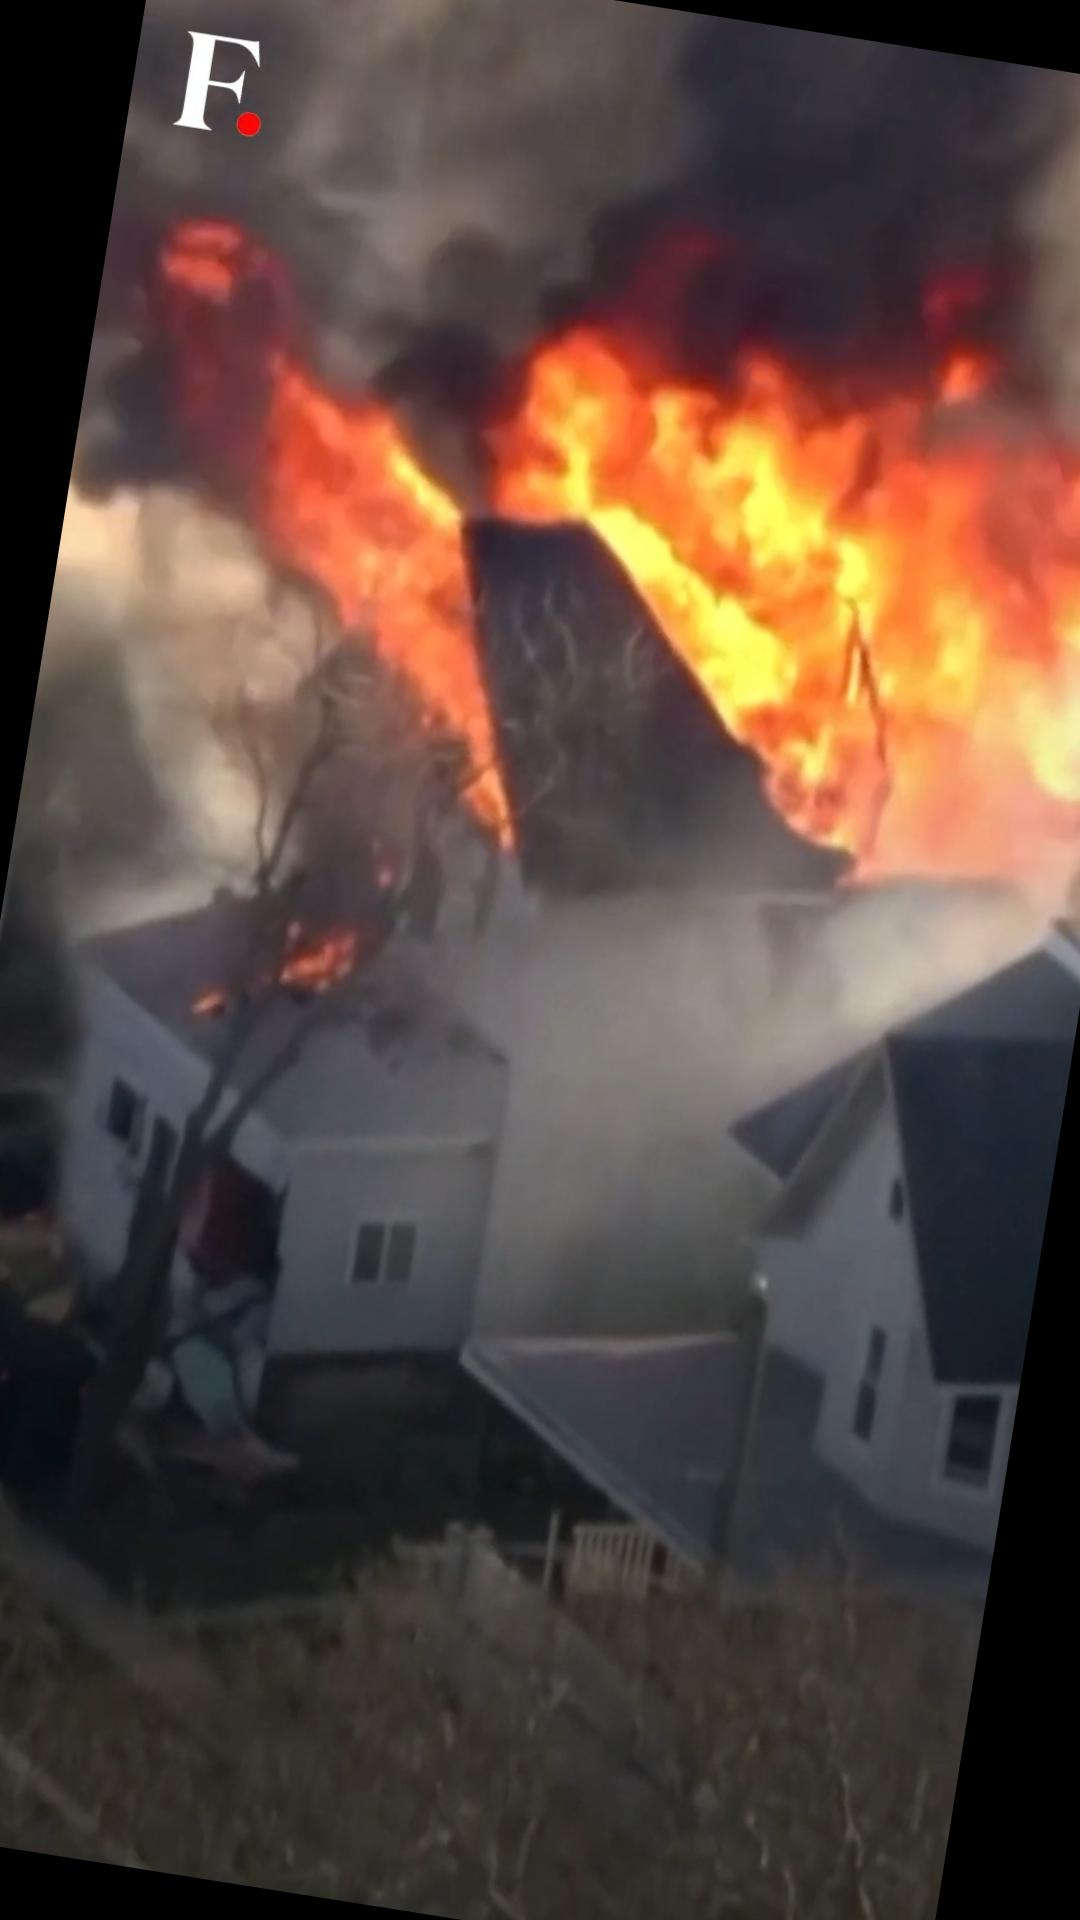Fire: (456, 203, 1080, 929), (98, 242, 527, 820)
Smoke: (261, 0, 1080, 416)
